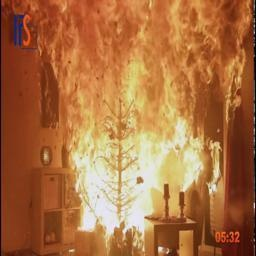fire: (5, 1, 256, 235)
